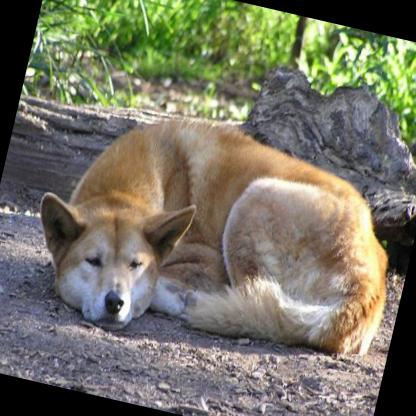dingo: (15, 86, 416, 390)
